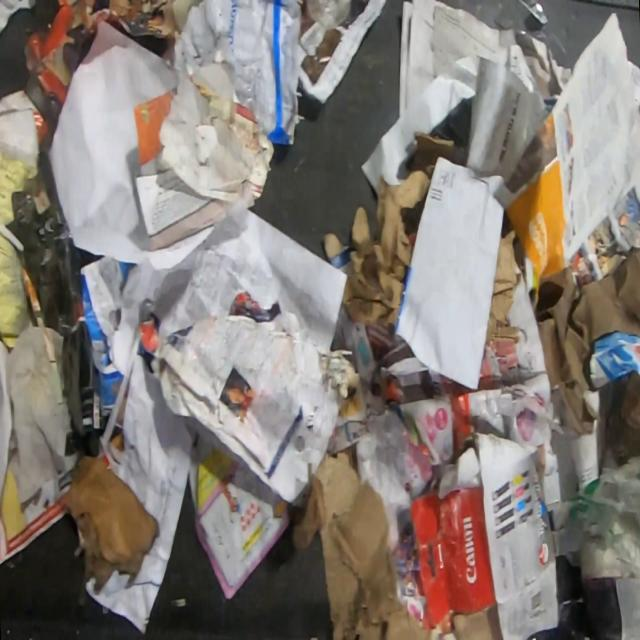cardboard: (410, 432, 561, 640), (290, 442, 432, 640), (320, 131, 456, 330), (54, 453, 159, 596), (486, 228, 524, 349), (450, 603, 503, 640), (518, 0, 548, 25)
soft_plastic: (531, 452, 640, 581), (305, 0, 352, 31)
